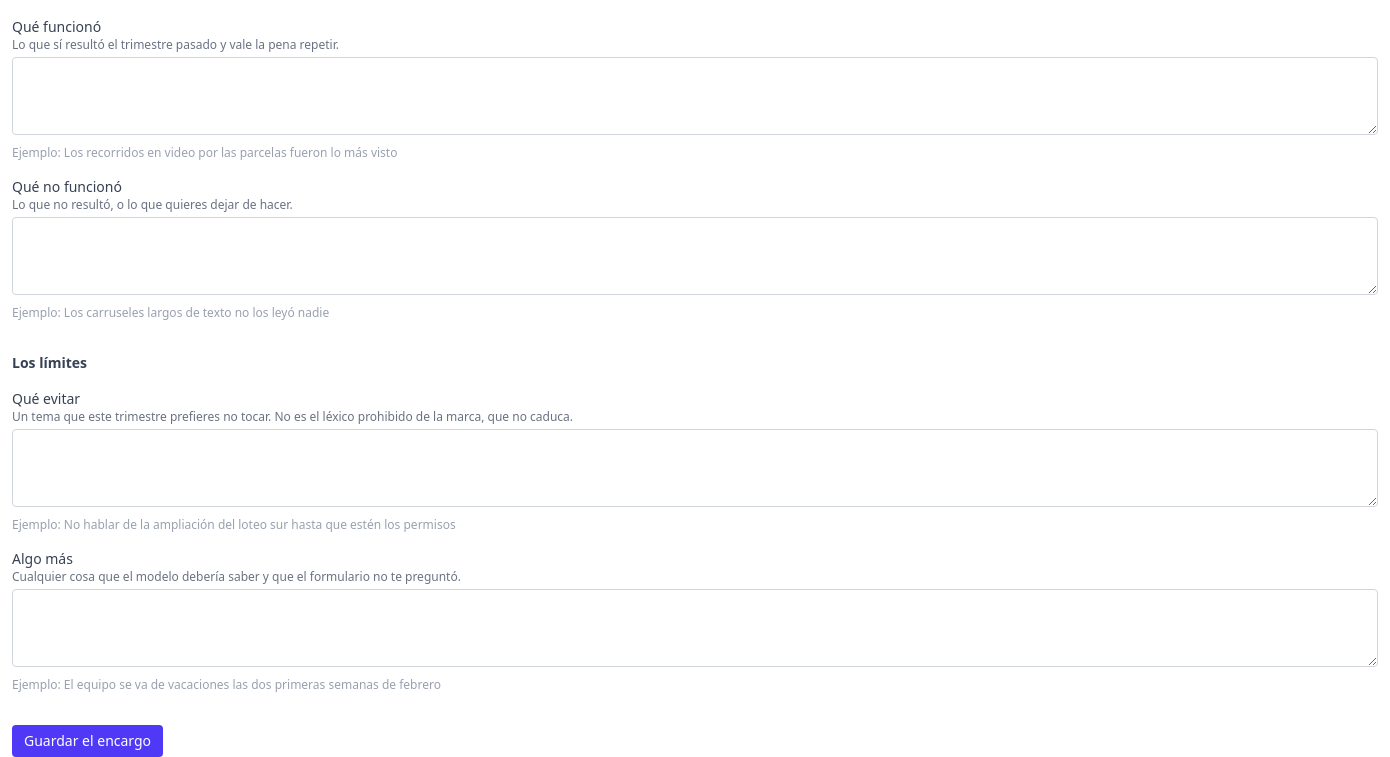
Test: EditorDeEncargo › un guardado exitoso anuncia el aviso de éxito por rol
(page scrolled)
Click the button "Guardar el encargo" at (88, 741), box [12, 725, 163, 756]
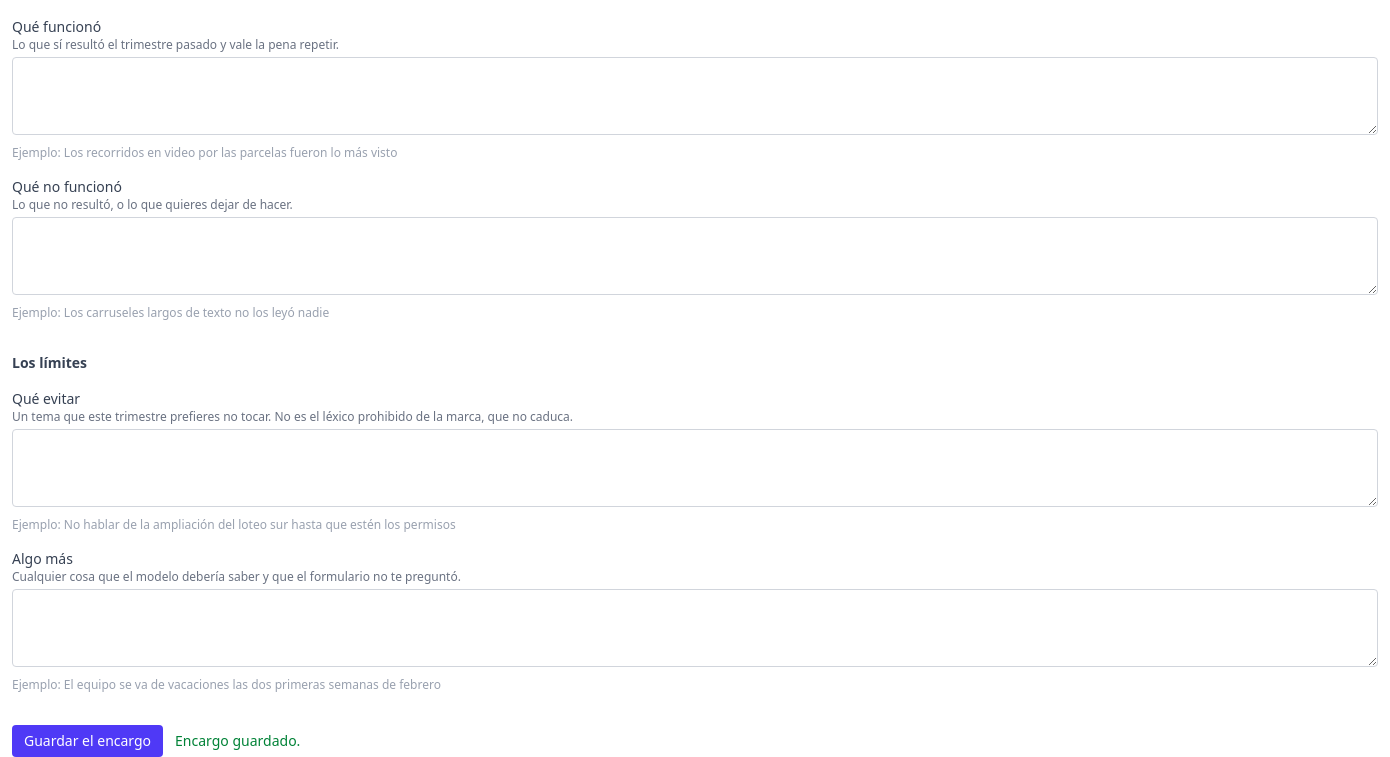
Expected: the message "Encargo guardado." is shown, [175, 731, 300, 751]
